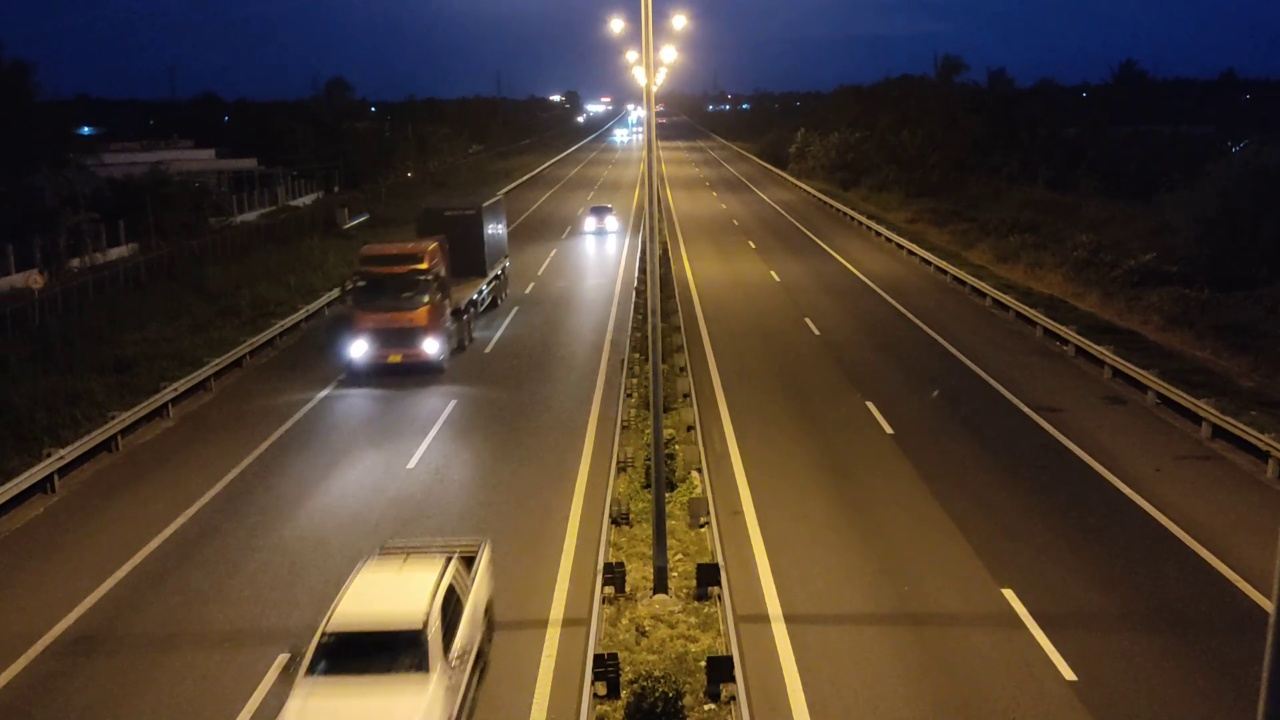car: (275, 535, 497, 719)
truck: (336, 192, 512, 374)
